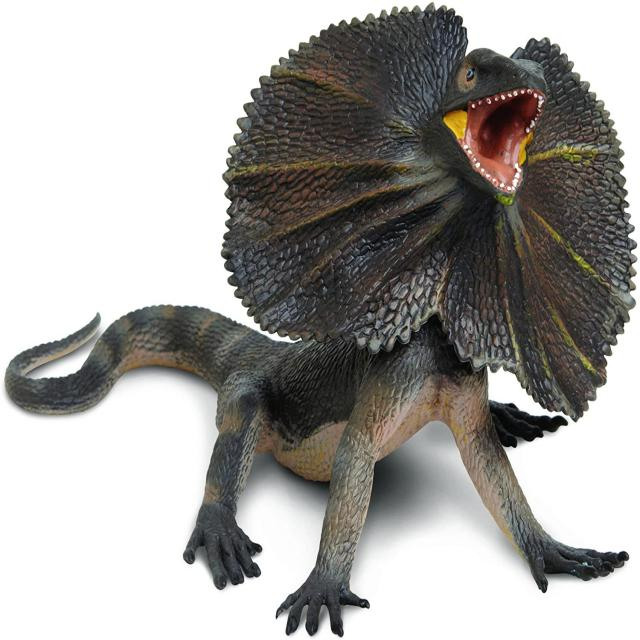lizard: (5, 4, 635, 636)
